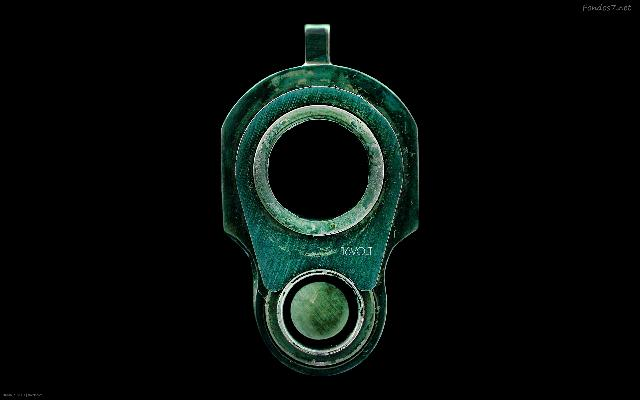pistol: (214, 17, 418, 380)
